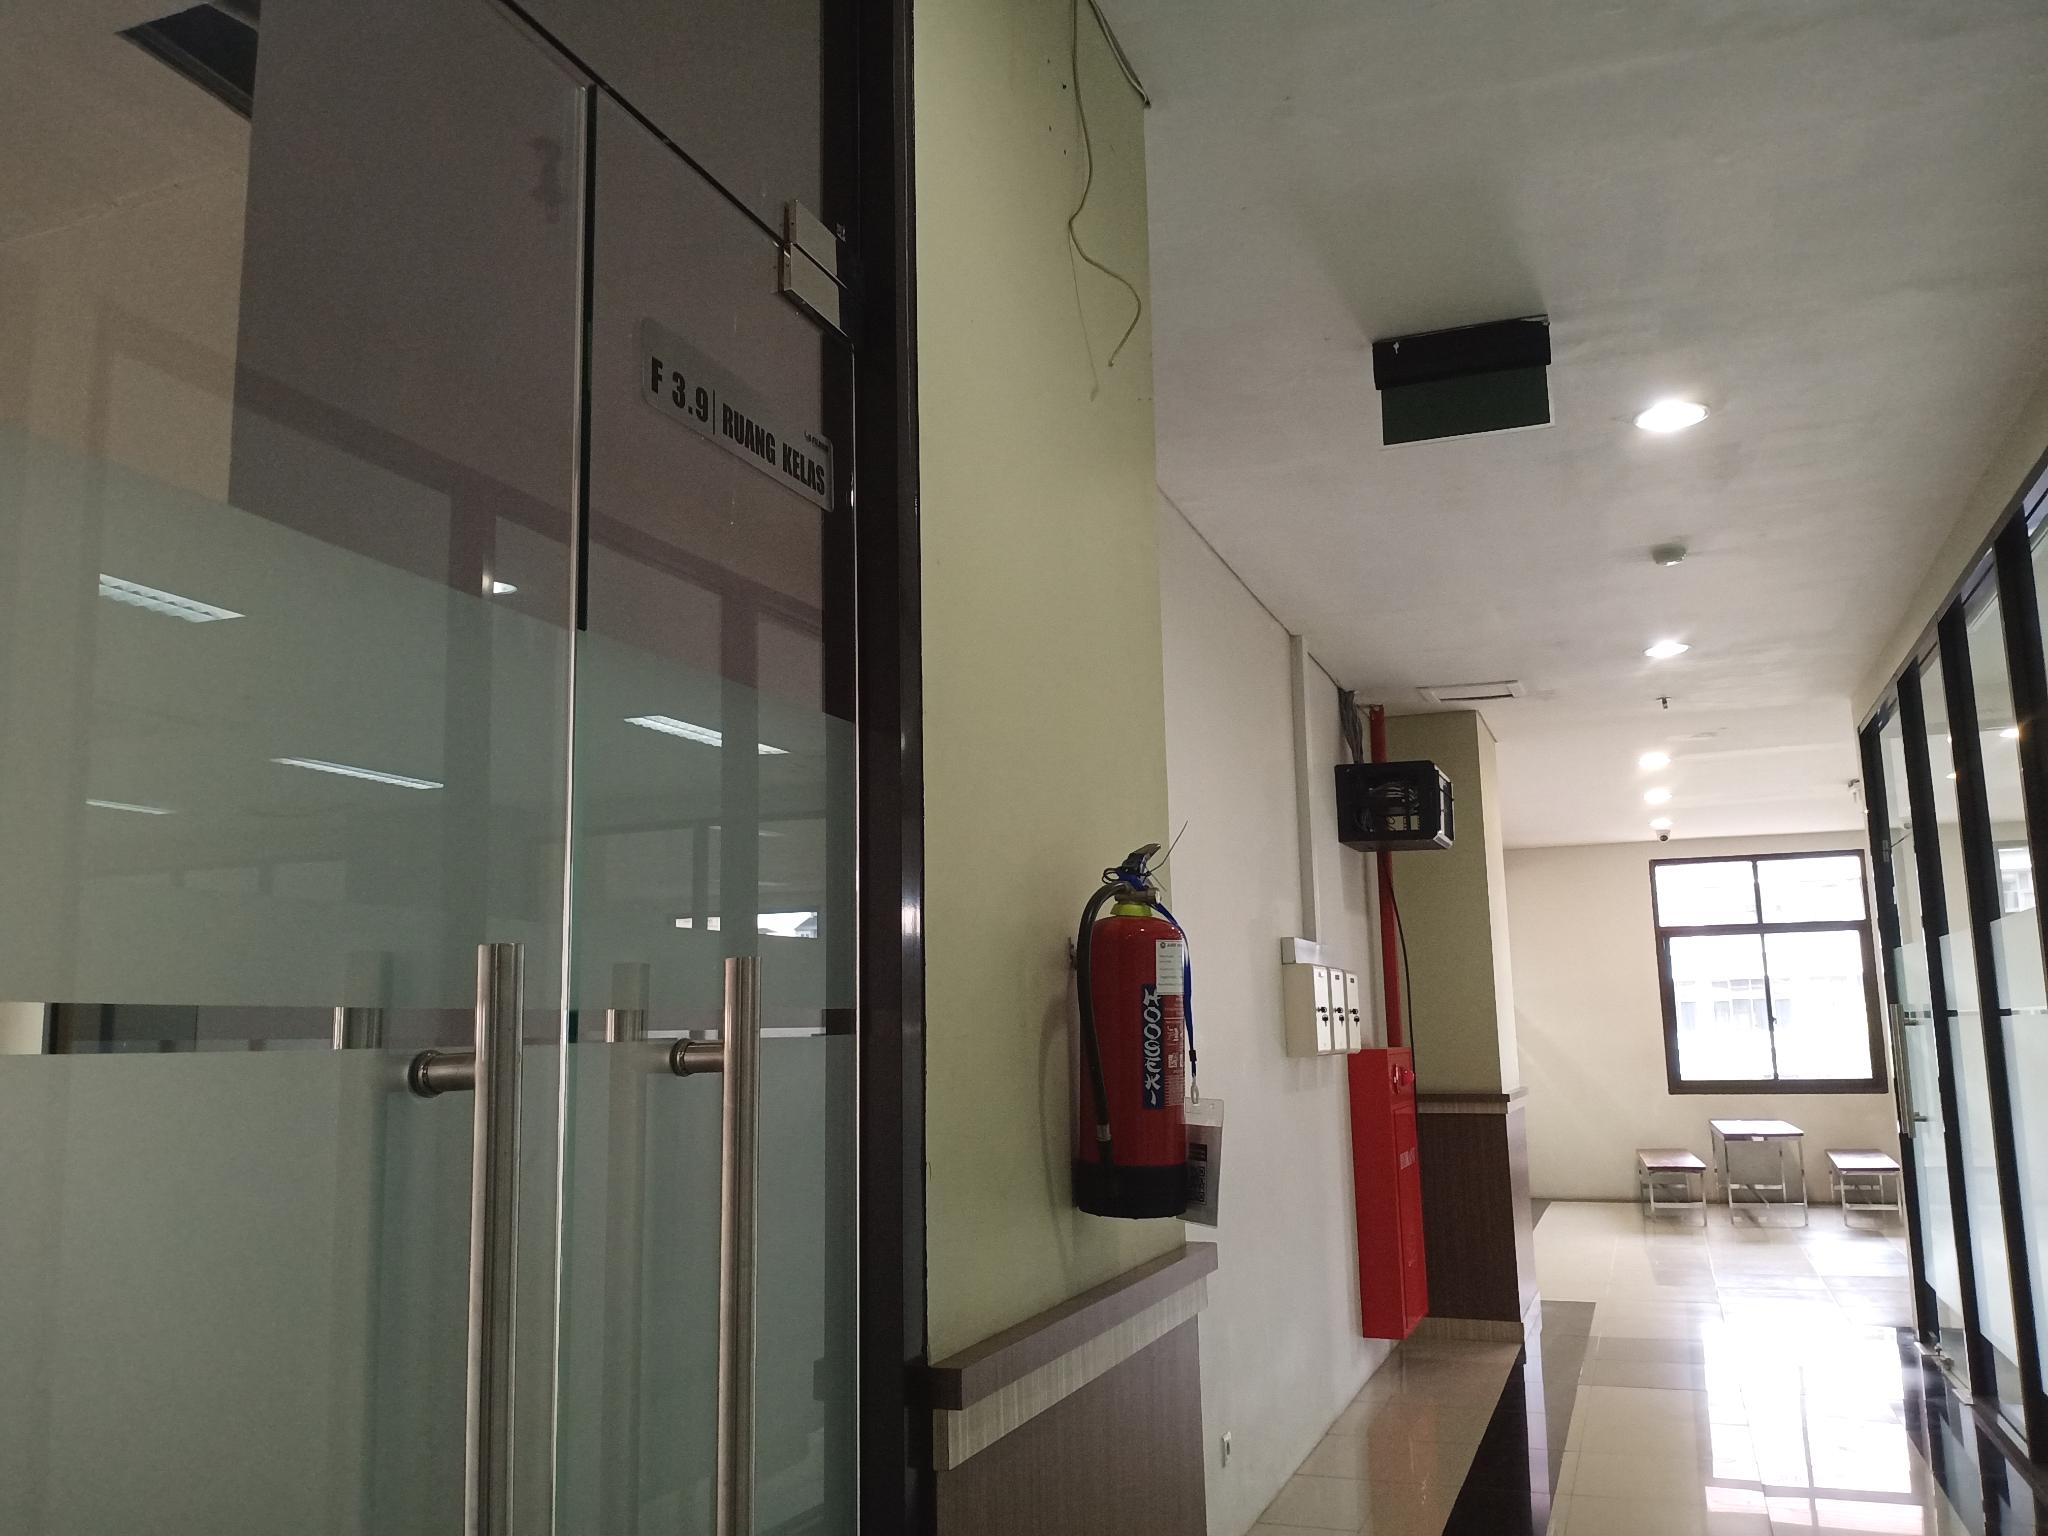plate: (642, 311, 837, 516)
